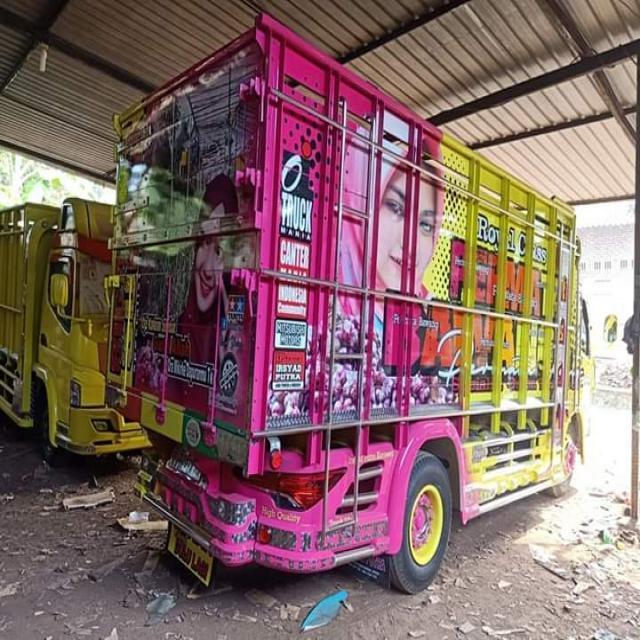truck: (107, 9, 616, 590)
